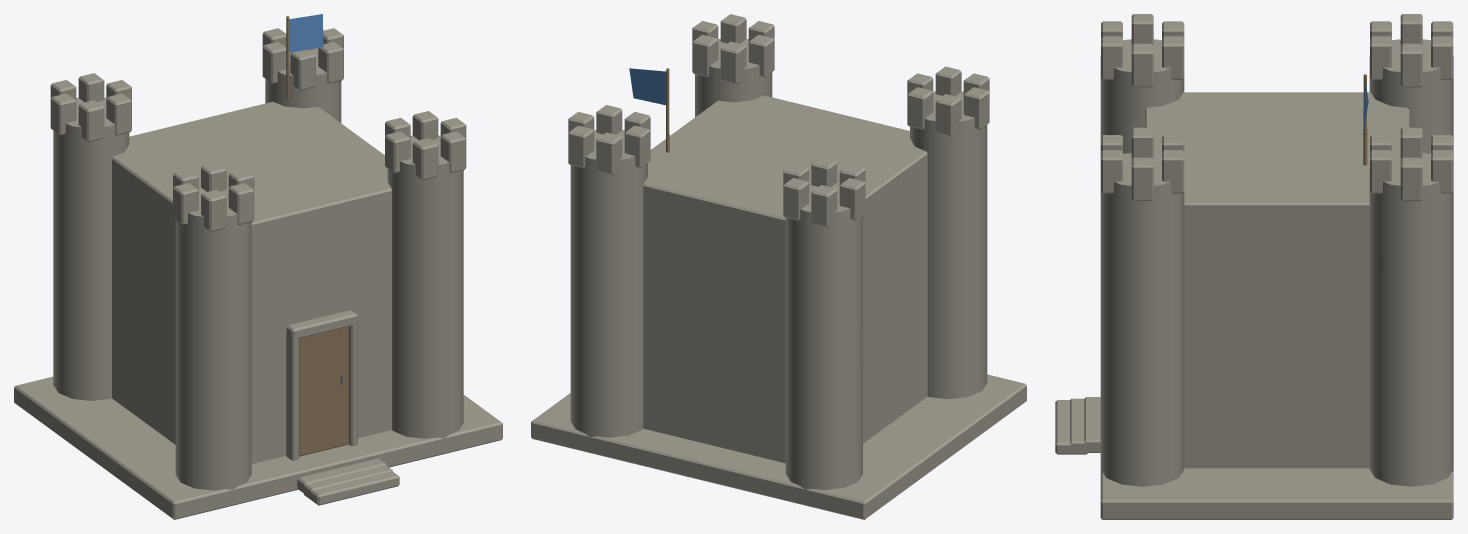
File: bld_fort_a10.glb
3 views of the same model, side by side, from view 1: azimuth 30°, elevation 25°; view 2: azimuth 150°, elevation 25°; view 3: azimuth 270°, elevation 25° (orthographic). The views are drawn at different scales.
Visible parts, largest first — view 1: bld_fort_a10; view 2: bld_fort_a10; view 3: bld_fort_a10.
Part boxes in pixels (left/top/right/bottom): bld_fort_a10: left=14, top=14, right=502, bottom=519; bld_fort_a10: left=531, top=14, right=1026, bottom=519; bld_fort_a10: left=1055, top=14, right=1453, bottom=519.
Bounding box in the file's own units: 3.8 × 3.96 × 3.61.
